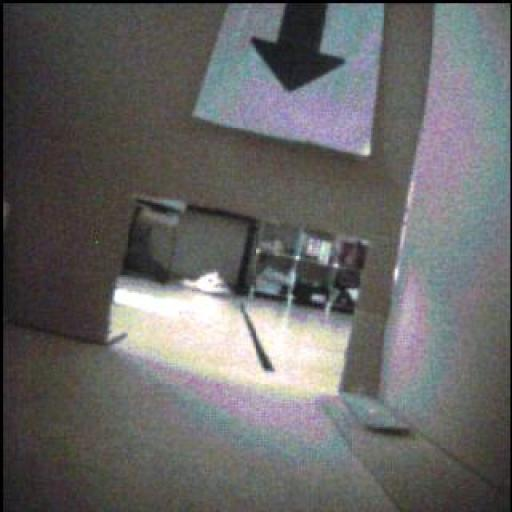arrow: (252, 4, 345, 92)
